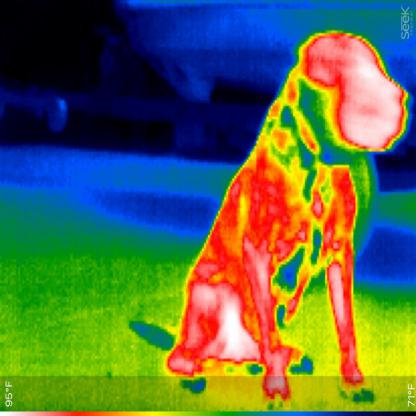dog: (164, 24, 408, 400)
